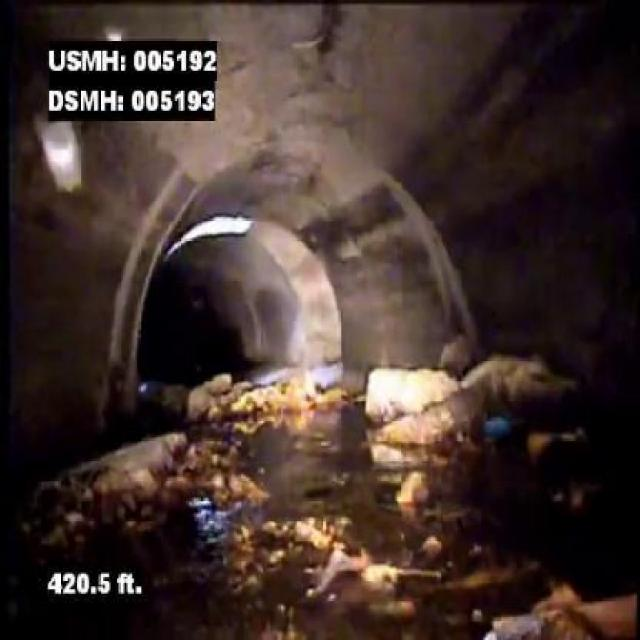Debris: (277, 500, 457, 605), (37, 426, 198, 520)
Obstacle: (363, 352, 586, 471)
